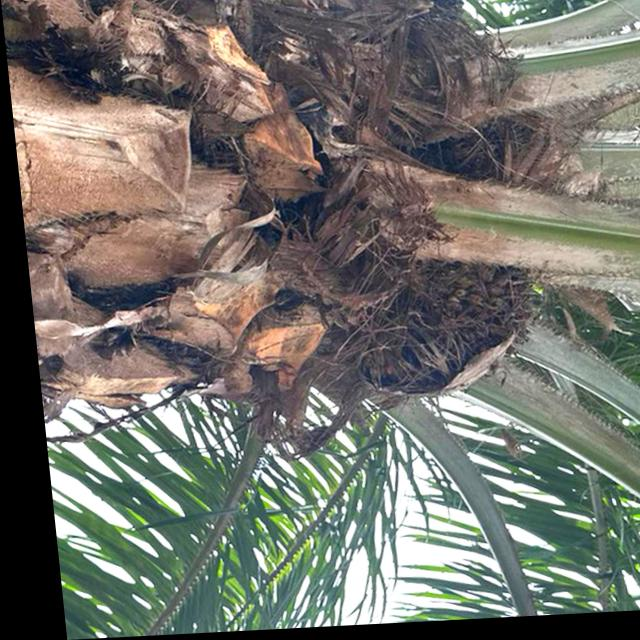almost: (349, 262, 532, 406)
